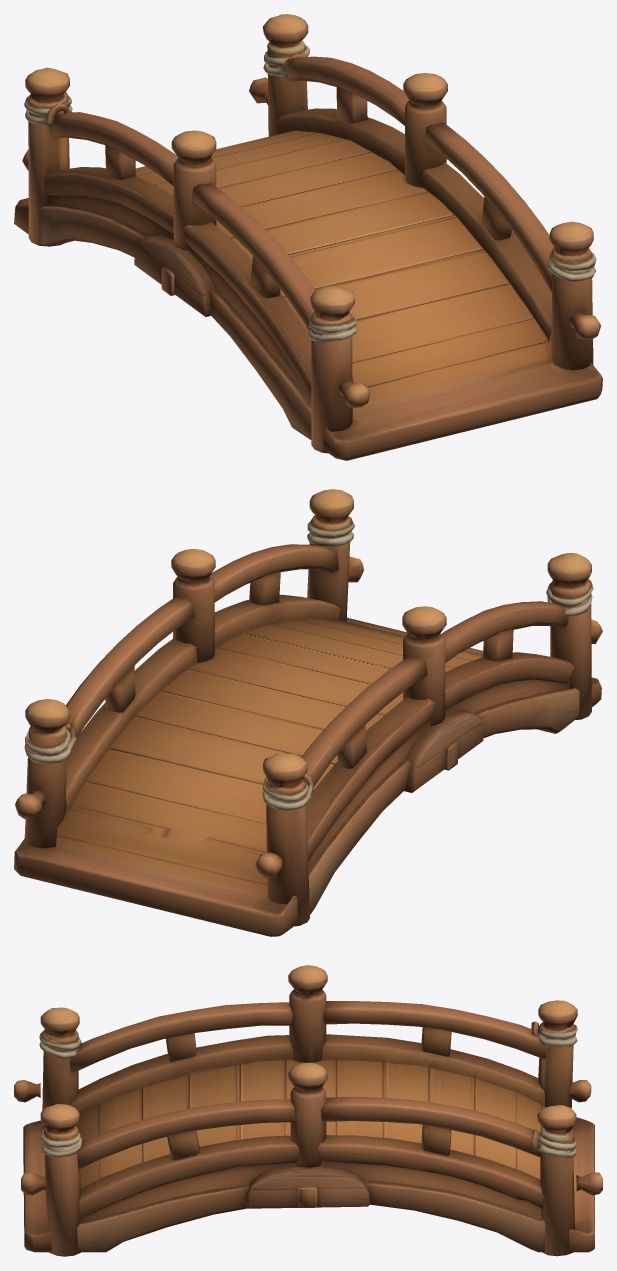
File: wooden-bridge.glb
3 views of the same model, one above another, from view 1: azimuth 30°, elevation 25°; view 2: azimuth 150°, elevation 25°; view 3: azimuth 270°, elevation 25° (orthographic). The views are drawn at different scales.
Parts seen in each view (by area): view 1: Wooden Bridge; view 2: Wooden Bridge; view 3: Wooden Bridge.
Boxes of the visible parts, x1,y1,x2,y2 form: Wooden Bridge: [14, 14, 602, 460]; Wooden Bridge: [14, 489, 602, 936]; Wooden Bridge: [14, 965, 602, 1256].
Bounding box in the file's own units: 0.4902 × 0.3379 × 0.998.
Materials: 1 (1 with a texture image).
